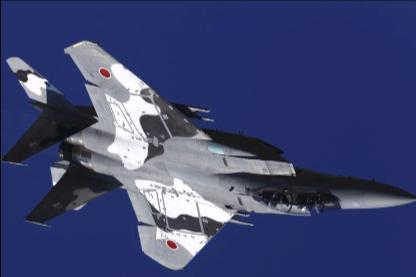F117: (1, 38, 415, 271)
